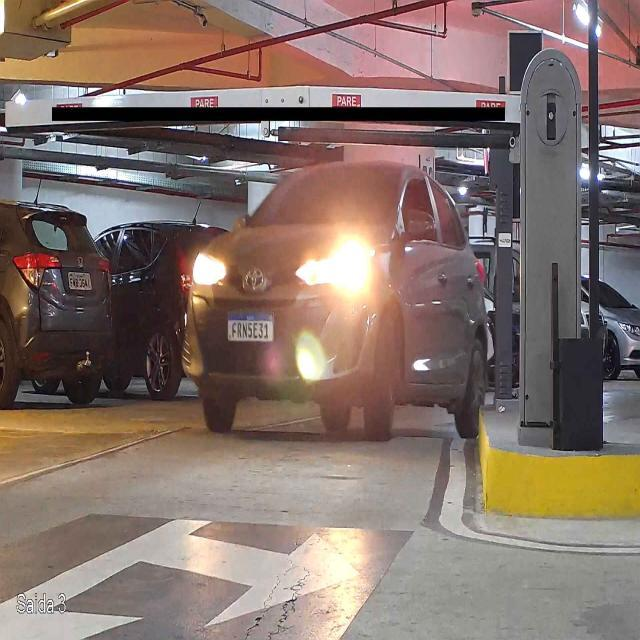mercosul_plate: (225, 308, 276, 344)
